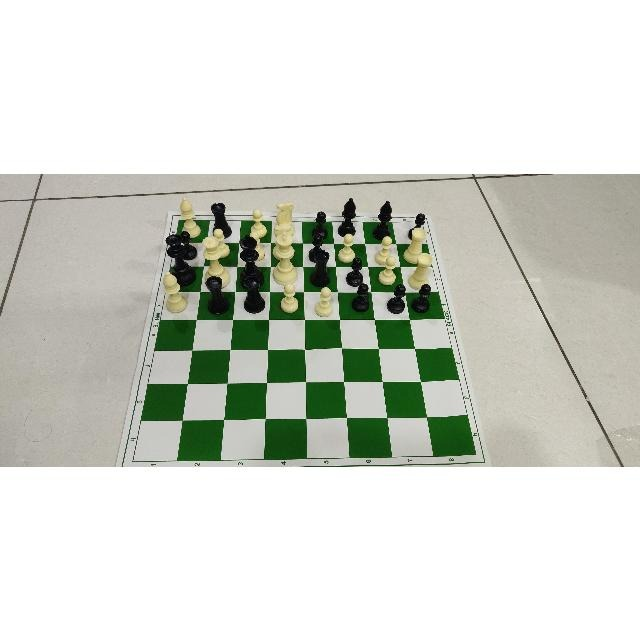black-bishop: (372, 200, 392, 240), (337, 197, 357, 235)
black-king: (239, 234, 264, 286)
black-pawn: (410, 283, 433, 314), (174, 230, 197, 260), (385, 283, 407, 314), (345, 256, 367, 286), (349, 282, 370, 313), (308, 233, 329, 262), (310, 211, 329, 238), (407, 213, 426, 239)
black-queen: (166, 233, 196, 285)
black-rook: (203, 274, 230, 313), (241, 275, 266, 313), (209, 202, 232, 238), (309, 249, 330, 286)
white-bishop: (162, 270, 187, 312), (180, 196, 200, 236)
white-king: (272, 230, 297, 284)
white-knight: (273, 202, 295, 238), (272, 225, 295, 259)
white-pawn: (276, 282, 299, 313), (210, 227, 230, 260), (244, 232, 266, 261), (373, 235, 395, 263), (377, 254, 396, 286), (247, 208, 267, 238), (315, 287, 333, 317), (337, 232, 355, 262)
white-queen: (201, 235, 230, 288)
white-rook: (403, 226, 427, 265), (408, 251, 433, 288)
